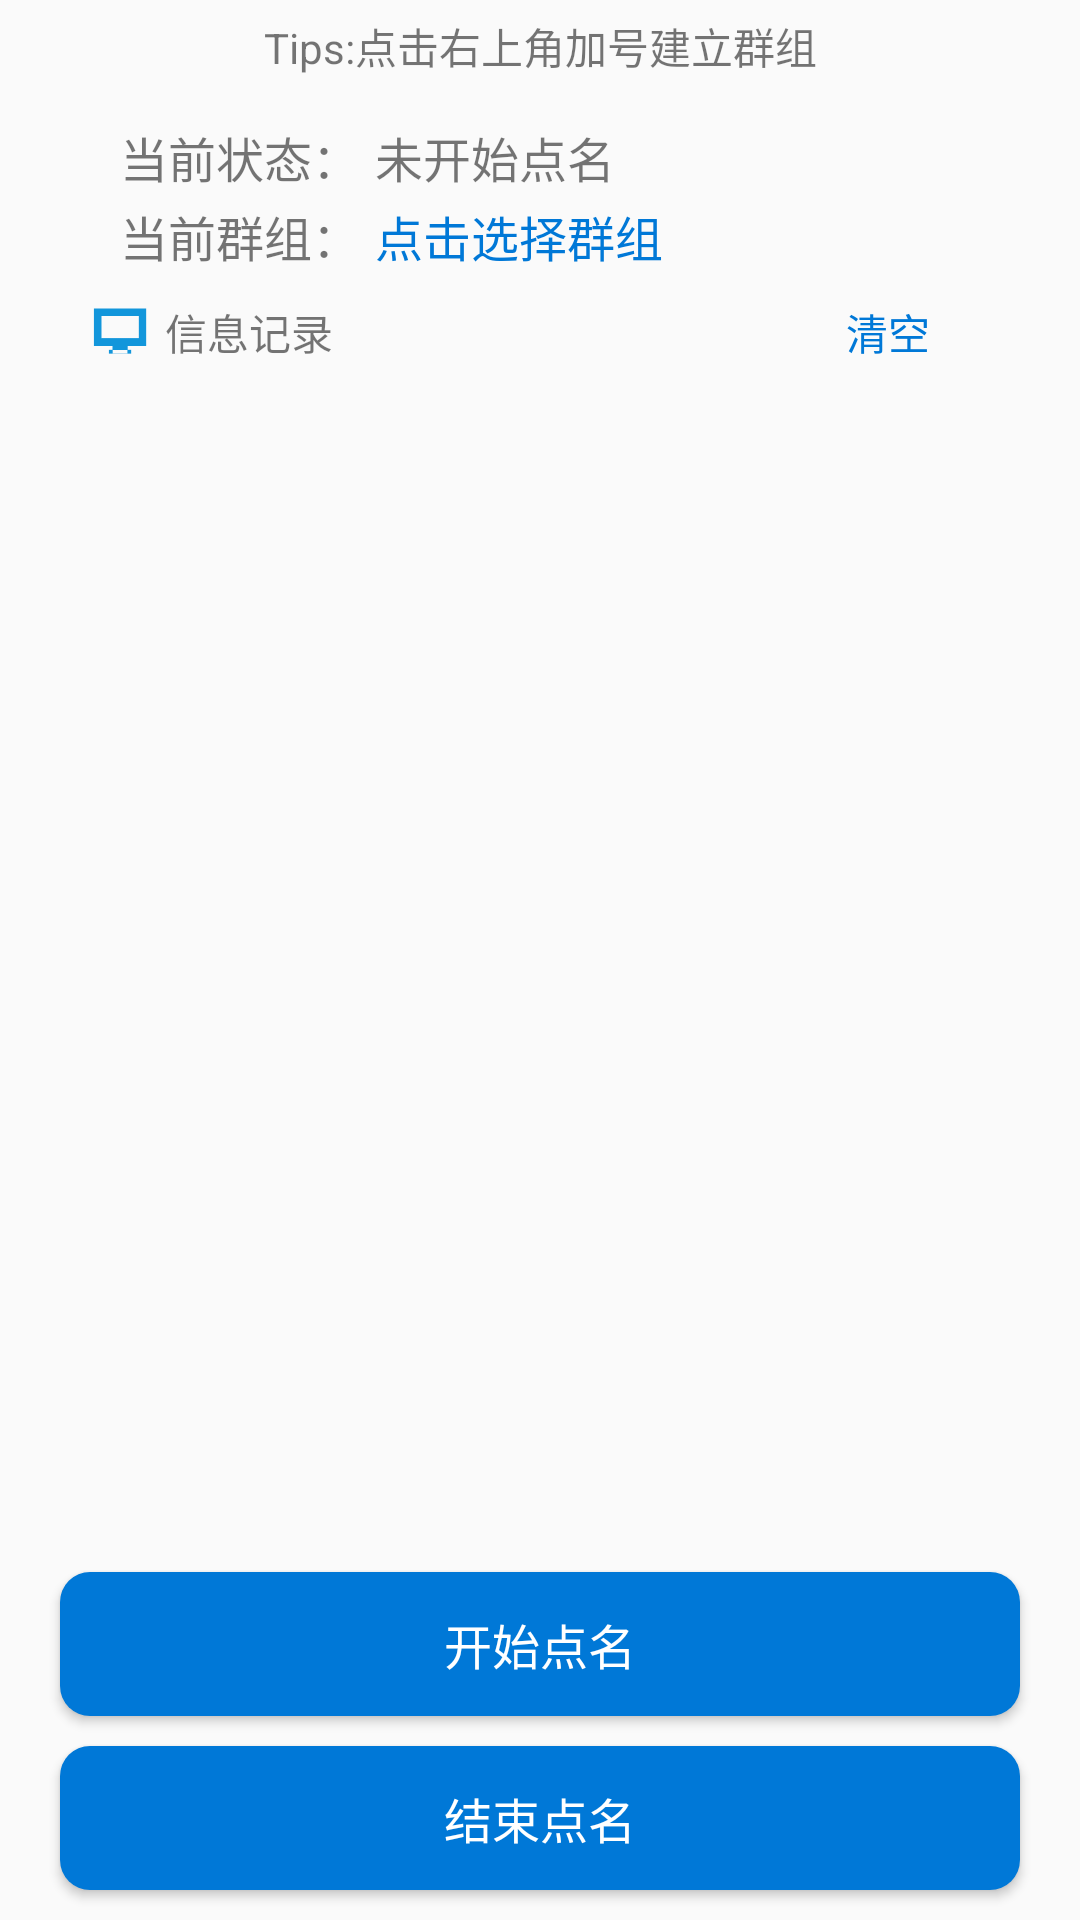

Where icons sit on this 1080px x 1920px app screen, as [x1,y1,x2,y2]:
console: [94,308,147,354]
